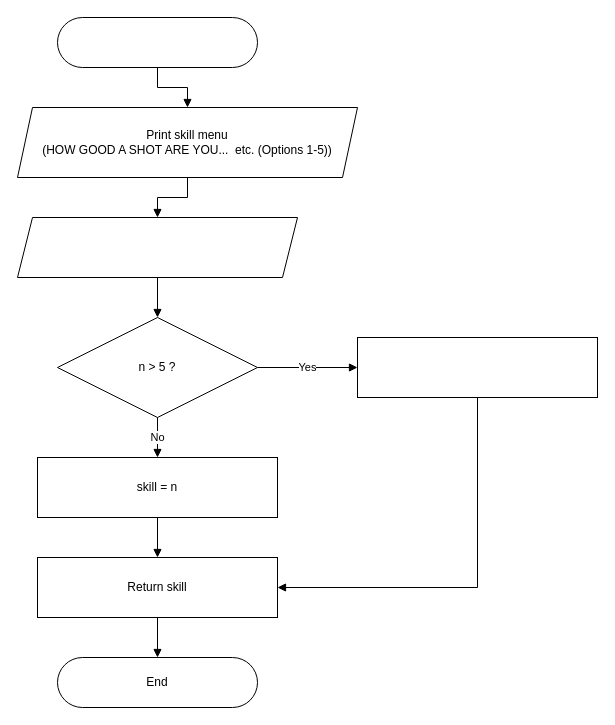
The diagram is 615 pixels wide and 725 high, and some of its shapes have lost their labels. The box of each missing label's shape, as (x1, y1, x2, y2) in pixels:
n = io::ask_number(): (16, 216, 298, 278)
skill = 0: (356, 336, 598, 398)
Start: (56, 16, 258, 68)
